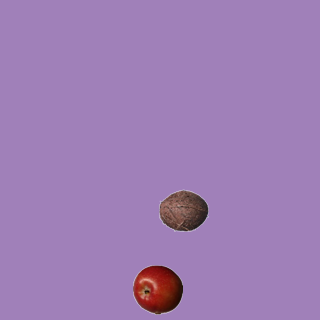Apple Braeburn: (132, 264, 182, 314)
Cocos: (158, 185, 208, 235)
